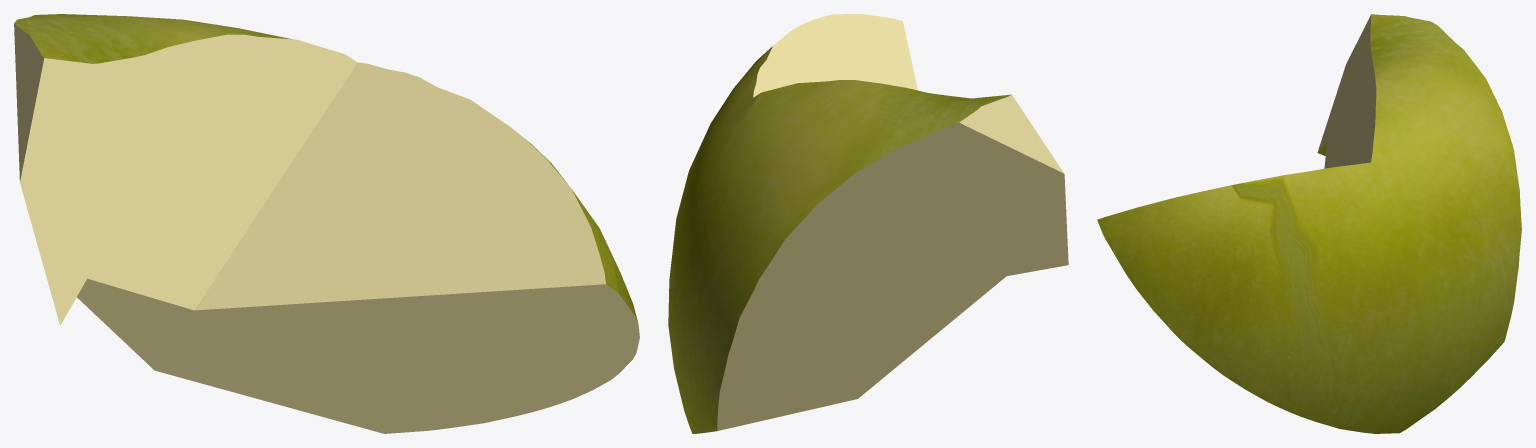
File: SM_Consumable_Apple_01_005.fbx
3 renders of one model, left to right at view 1: azimuth 30°, elevation 25°; view 2: azimuth 150°, elevation 25°; view 3: azimuth 270°, elevation 25°, orthographic. The views are drawn at different scales.
Visible parts, largest first — view 1: SM_Consumable_Apple_01.005; view 2: SM_Consumable_Apple_01.005; view 3: SM_Consumable_Apple_01.005.
Boxes of the visible parts, bbox=[...] form: SM_Consumable_Apple_01.005: bbox=[14, 14, 639, 433]; SM_Consumable_Apple_01.005: bbox=[668, 14, 1068, 433]; SM_Consumable_Apple_01.005: bbox=[1097, 14, 1521, 433].
Size of the model in its own units: 0.0466 by 0.0433 by 0.0542.
